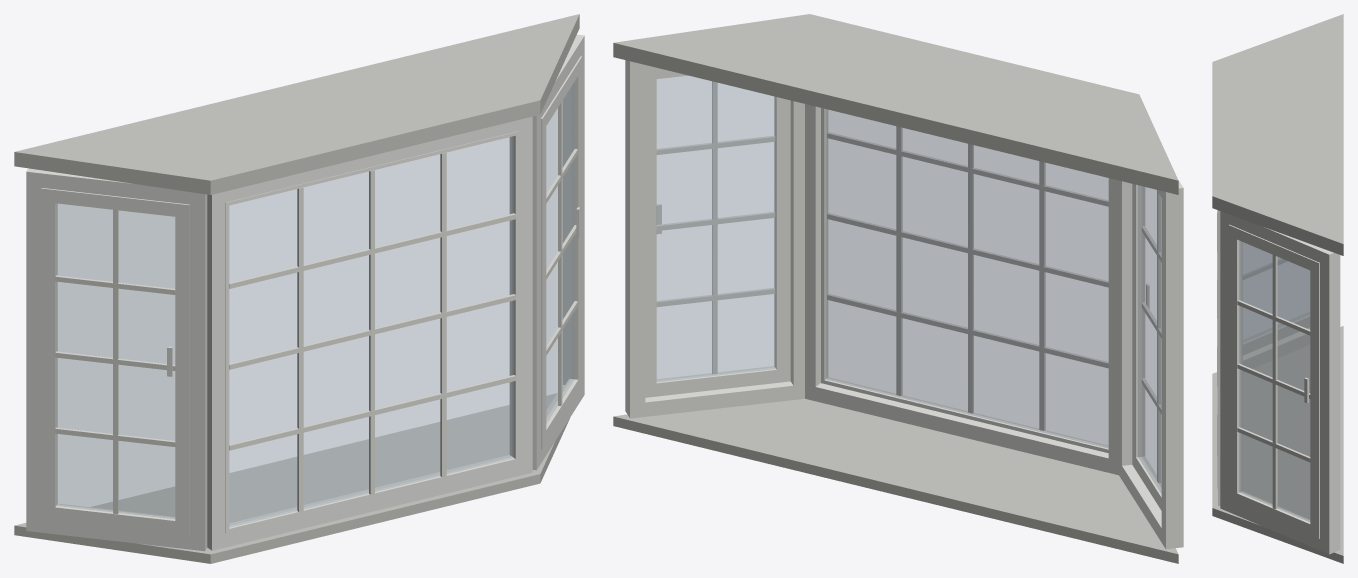
The model's file is bay-window-about-2400-mm-3-units-at-45-degrees-colonial-gril.glb.
The picture shows the model from 3 angles, left to right: view 1: azimuth 30°, elevation 25°; view 2: azimuth 150°, elevation 25°; view 3: azimuth 270°, elevation 25°; orthographic projection. The views are drawn at different scales.
Visible parts, largest first — view 1: Glass 1, Bay head board, Glass 3, Bay seat board and sill, Frame 1, Frame 3, Sashes 3, Grilles 1, Sashes 1, Frame 2, Sashes 2, Glass 2 (+2 smaller); view 2: Glass 1, Bay head board, Glass 2, Bay seat board and sill, Frame 2, Frame 1, Frame 3, Sashes 2, Grilles 1, Glass 3, Sashes 3, Sashes 1 (+2 smaller); view 3: Bay head board, Glass 2, Bay seat board and sill, Frame 2, Sashes 2, Glass 3, Grilles 2, Frame 3, Sashes 3, Frame 1, Sashes 1, Grilles 1 (+1 smaller).
Boxes of the visible parts, x1,y1,x2,y2 form: Glass 1: (229, 136, 514, 527); Bay head board: (14, 14, 579, 194); Glass 3: (56, 203, 175, 518); Bay seat board and sill: (14, 393, 569, 563); Frame 1: (207, 116, 532, 550); Frame 3: (26, 168, 207, 551); Sashes 3: (41, 188, 189, 535); Grilles 1: (229, 152, 515, 511); Sashes 1: (225, 131, 518, 533); Frame 2: (532, 34, 584, 470); Sashes 2: (541, 56, 581, 449); Glass 2: (546, 82, 574, 423); Glass 1: (825, 109, 1108, 448); Bay head board: (613, 14, 1178, 194); Glass 2: (656, 75, 776, 381); Bay seat board and sill: (613, 399, 1178, 563); Frame 2: (625, 60, 804, 418); Frame 1: (805, 104, 1118, 475); Frame 3: (1119, 179, 1183, 549); Sashes 2: (645, 69, 790, 397); Grilles 1: (827, 126, 1108, 430); Glass 3: (1138, 185, 1161, 493); Sashes 3: (1132, 184, 1161, 510); Sashes 1: (821, 108, 1108, 453); Bay head board: (1212, 14, 1343, 255); Glass 2: (1239, 241, 1310, 521); Bay seat board and sill: (1212, 326, 1343, 563); Frame 2: (1220, 211, 1340, 554); Sashes 2: (1228, 224, 1319, 538); Glass 3: (1243, 242, 1309, 342); Grilles 2: (1237, 255, 1310, 509); Frame 3: (1242, 327, 1310, 372); Sashes 3: (1242, 312, 1310, 355); Frame 1: (1218, 210, 1220, 505); Sashes 1: (1217, 210, 1217, 488); Grilles 1: (1217, 210, 1217, 455).
Size of the model in its own units: 2.47 by 1.6 by 0.595.
4 materials, 4 textured.
